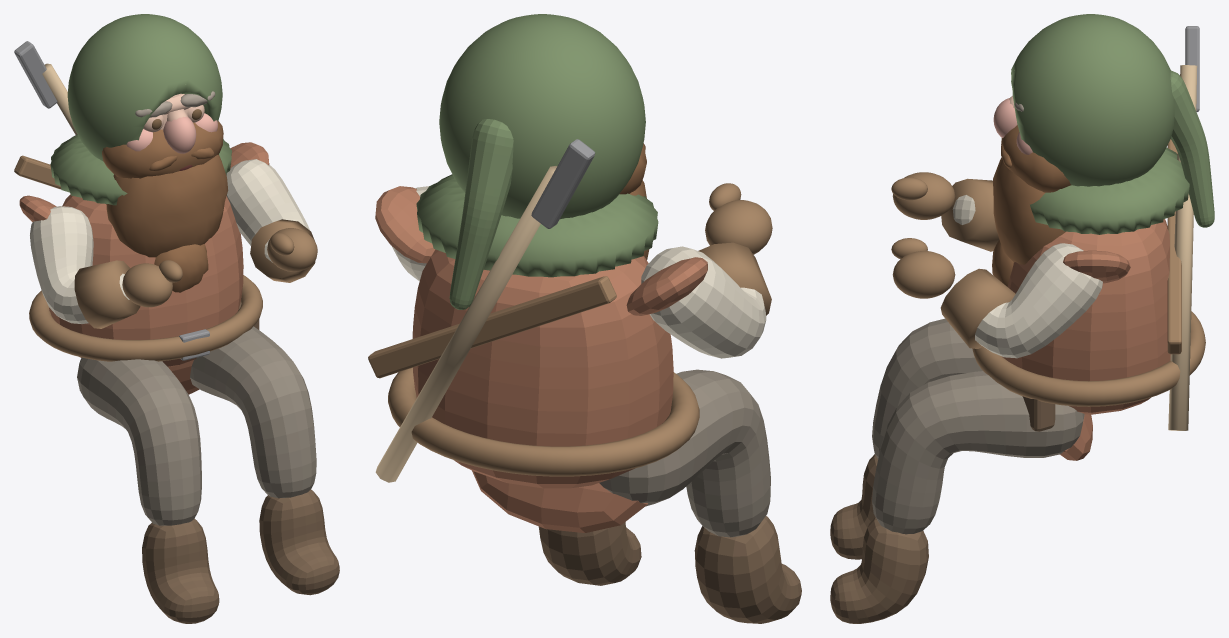
Rendered from budak.glb.
3 views of the same model, side by side, from view 1: azimuth 30°, elevation 25°; view 2: azimuth 150°, elevation 25°; view 3: azimuth 270°, elevation 25° (orthographic). The views are drawn at different scales.
Parts seen in each view (by area): view 1: Hood, LegL, LegR, Tunic, Beard, BootR, BootL, Belt, ArmL, ArmR, Capelet, BeardUpper (+12 smaller); view 2: Tunic, Hood, LegL, Capelet, Belt, BootL, ArmL, AxeHaft, HoodTail, AxeStrap, Skirt, BootR (+6 smaller); view 3: Hood, LegR, Tunic, ArmR, Capelet, BootR, Belt, LegL, Beard, AxeHaft, HoodTail, BracerR (+14 smaller).
Boxes of the visible parts, x1,y1,x2,y2 form: Hood: (67, 14, 222, 161); LegL: (77, 357, 201, 525); LegR: (190, 326, 316, 498); Tunic: (49, 194, 243, 366); Beard: (106, 154, 228, 257); BootR: (259, 489, 339, 595); BootL: (142, 518, 219, 623); Belt: (29, 275, 262, 361); ArmL: (30, 206, 129, 323); ArmR: (226, 159, 310, 262); Capelet: (50, 134, 231, 205); BeardUpper: (102, 121, 223, 178); Tunic: (412, 249, 673, 488); Hood: (439, 14, 645, 219); LegL: (599, 369, 770, 537); Capelet: (416, 174, 658, 277); Belt: (388, 367, 699, 476); BootL: (694, 516, 801, 623); ArmL: (641, 246, 766, 358); AxeHaft: (375, 166, 557, 482); HoodTail: (449, 119, 513, 309); AxeStrap: (368, 276, 616, 378); Skirt: (472, 470, 647, 532); BootR: (538, 522, 641, 585); Hood: (1011, 14, 1174, 186); LegR: (872, 371, 1084, 534); Tunic: (1002, 219, 1170, 414); ArmR: (975, 243, 1102, 358); Capelet: (1030, 147, 1189, 234); BootR: (830, 517, 928, 623); Belt: (972, 311, 1205, 406); LegL: (872, 318, 982, 459); Beard: (993, 157, 1065, 264); AxeHaft: (1168, 65, 1197, 430); HoodTail: (1170, 70, 1214, 227); BracerR: (940, 268, 1015, 348).
Size of the model in its own units: 0.4671 by 0.8714 by 0.5369.
